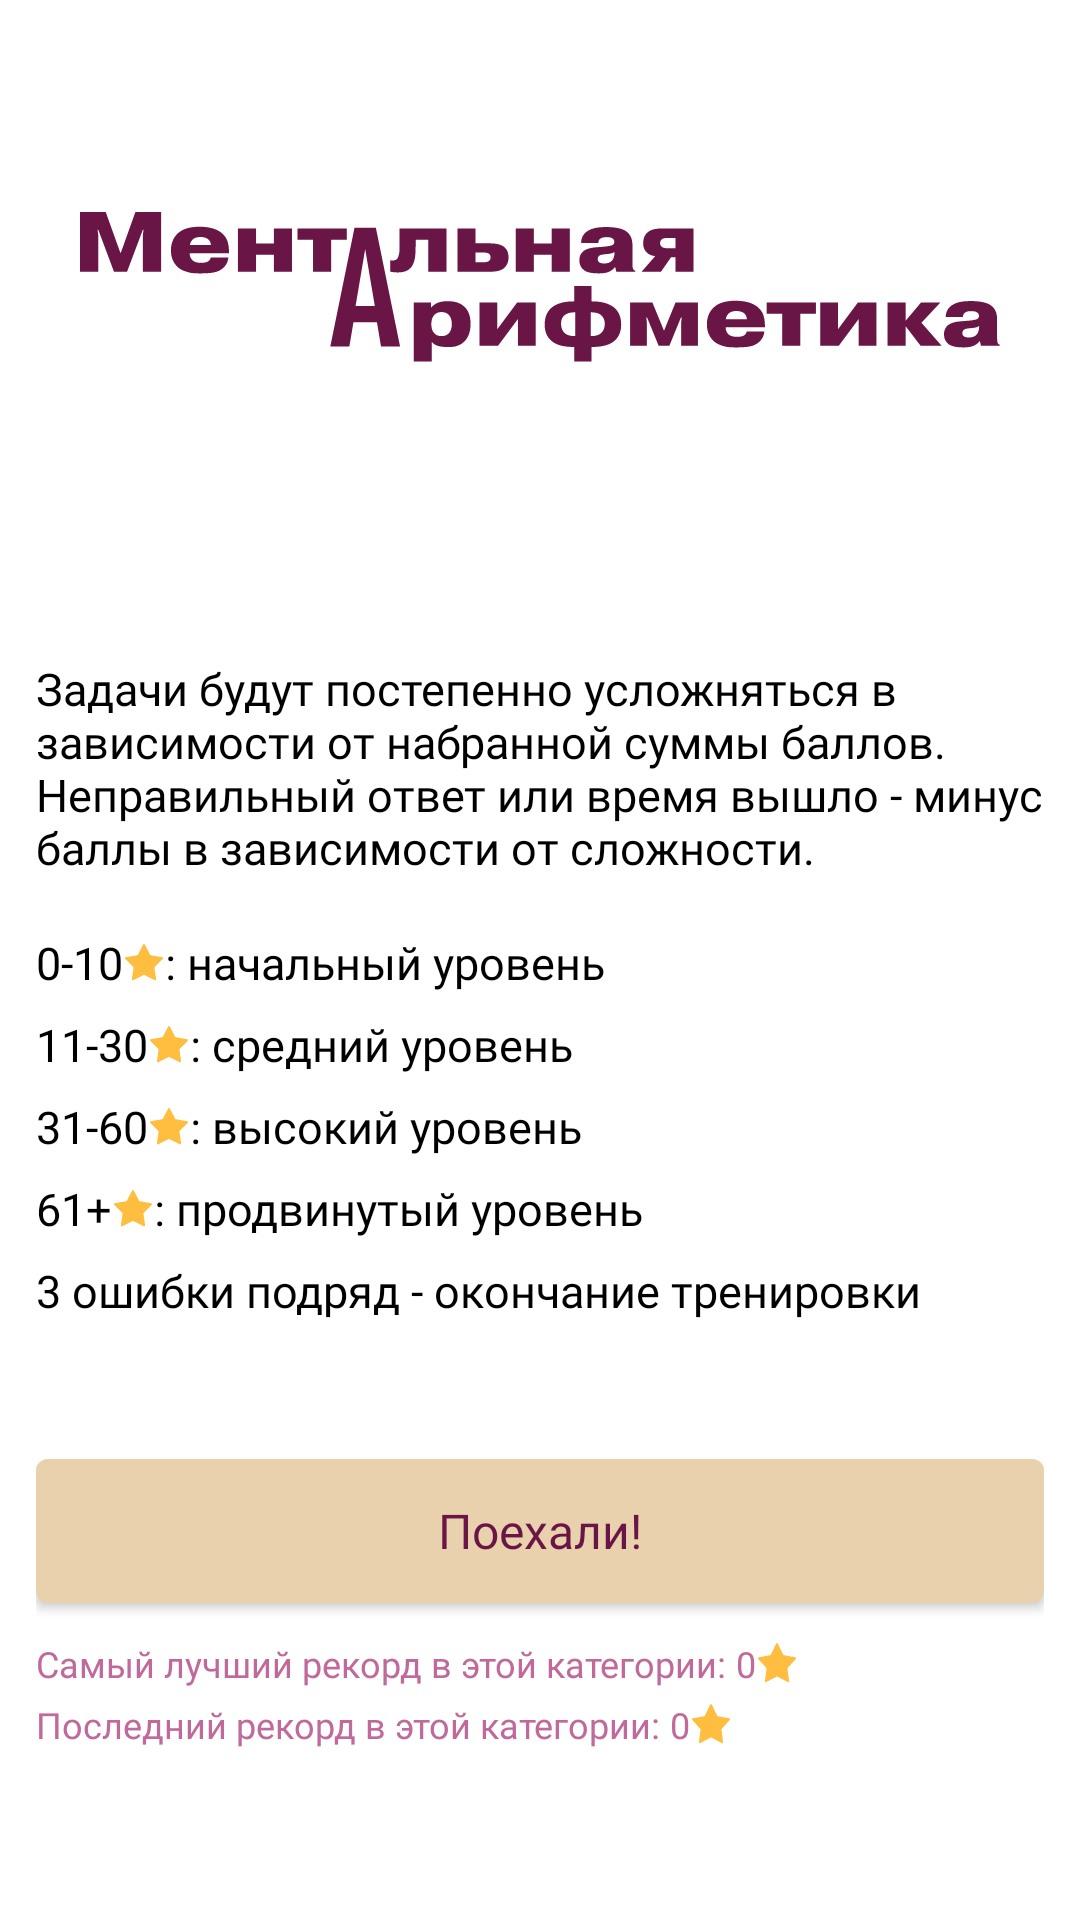

Icon bounding boxes for this 1080px×1920px phone screenshot, format (x1, y1, x2, y2):
star: (125, 944, 163, 981), (150, 1026, 188, 1063), (150, 1108, 188, 1145), (114, 1190, 152, 1227), (758, 1643, 796, 1682), (692, 1704, 730, 1743)
